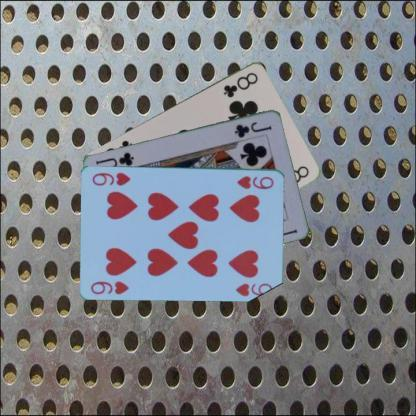8c: (221, 69, 259, 99)
9h: (88, 278, 130, 296), (235, 173, 275, 190)
Jc: (232, 119, 274, 139)
